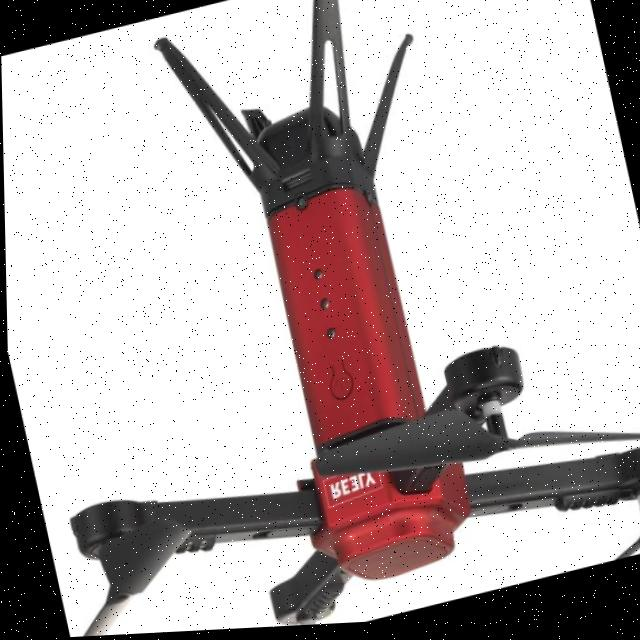drones: (21, 287, 640, 639)
